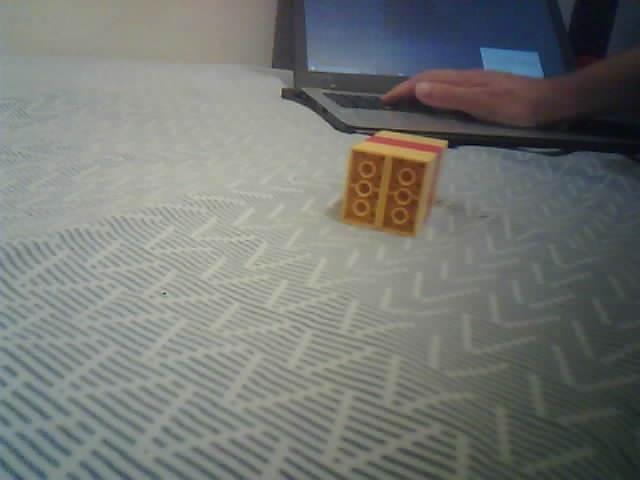lego: (340, 128, 448, 240)
